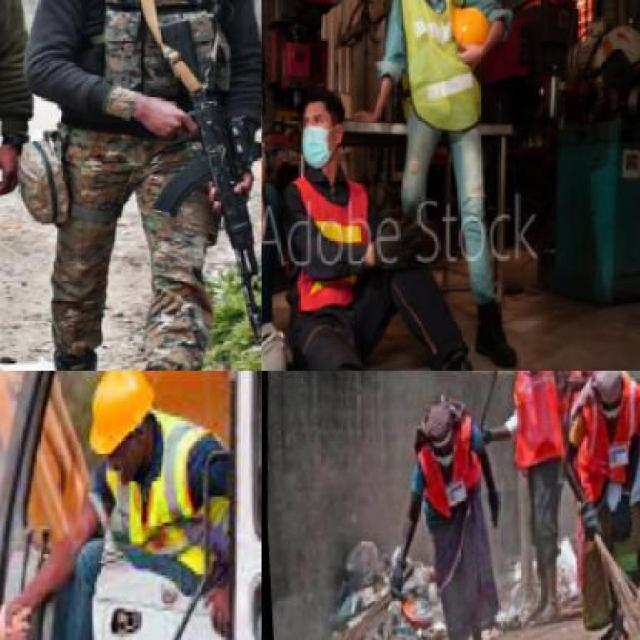vest: (68, 0, 237, 175), (83, 420, 235, 602), (386, 0, 491, 145), (280, 177, 369, 321), (570, 398, 638, 504), (502, 371, 570, 475), (403, 435, 485, 520)
